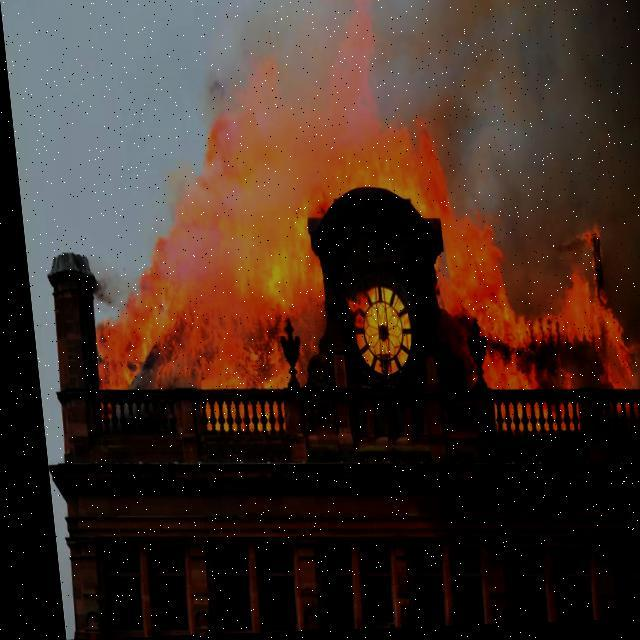Fire: (60, 61, 639, 472)
